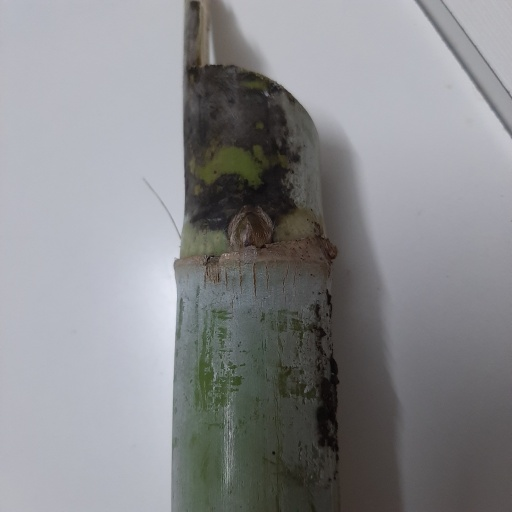Bud: (230, 208, 271, 246)
